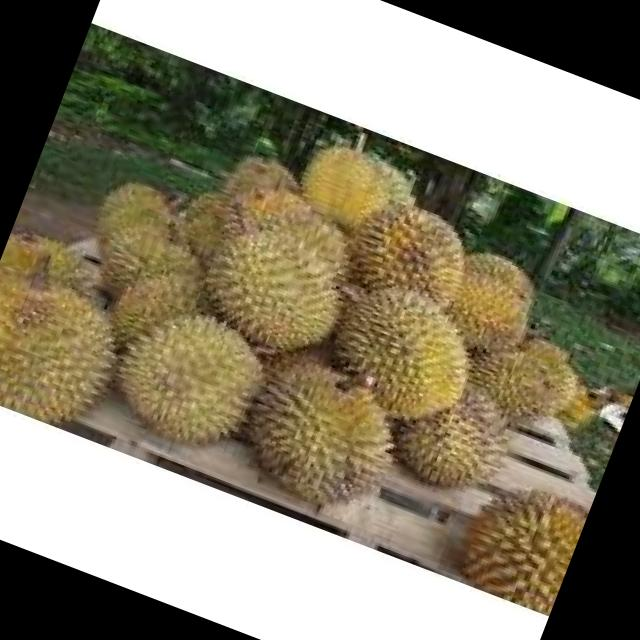fruit: (279, 190, 532, 467), (160, 142, 398, 396), (374, 286, 604, 540), (212, 322, 439, 538), (76, 269, 296, 477), (0, 235, 159, 442), (434, 451, 596, 615)
